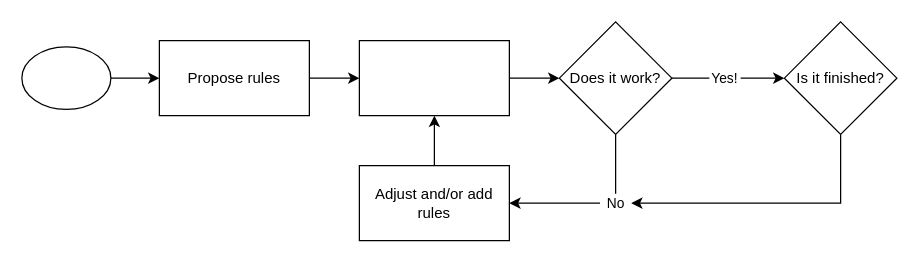
This 919x263 diagram has some shape labels left out. The shapes that lost their labels are listed below. From the top down, each one's centre as x and y in pixels, then its label:
At (x=66, y=77): "Start".
At (x=433, y=77): "Test rules".
